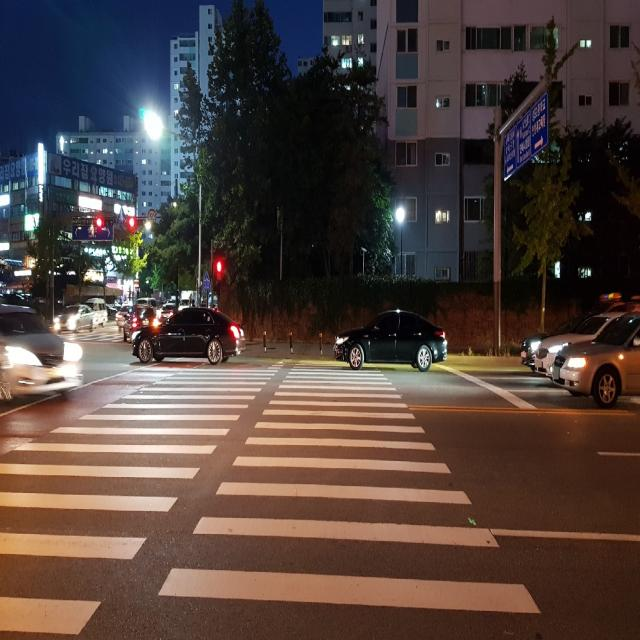빨간불: (216, 258, 223, 280)
횡단보도: (0, 359, 542, 640)
